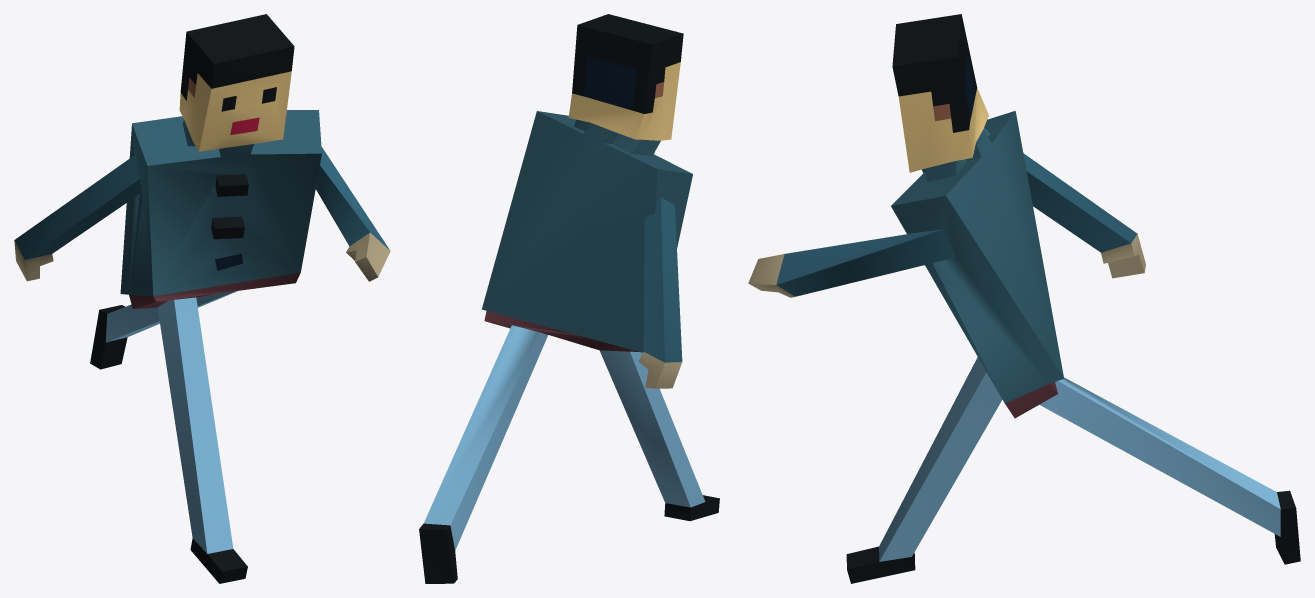
The model's file is running-man.obj.
3 views of the same model, side by side, from view 1: azimuth 30°, elevation 25°; view 2: azimuth 150°, elevation 25°; view 3: azimuth 270°, elevation 25° (orthographic). The views are drawn at different scales.
Parts seen in each view (by area): view 1: unamed_unamedmesh; view 2: unamed_unamedmesh; view 3: unamed_unamedmesh.
Part boxes in pixels (bbox=[...]): unamed_unamedmesh: bbox=[14, 14, 390, 583]; unamed_unamedmesh: bbox=[419, 14, 719, 583]; unamed_unamedmesh: bbox=[748, 14, 1300, 583].
Size of the model in its own units: 0.0175 by 0.0373 by 0.0331.
1 material, 1 textured.
